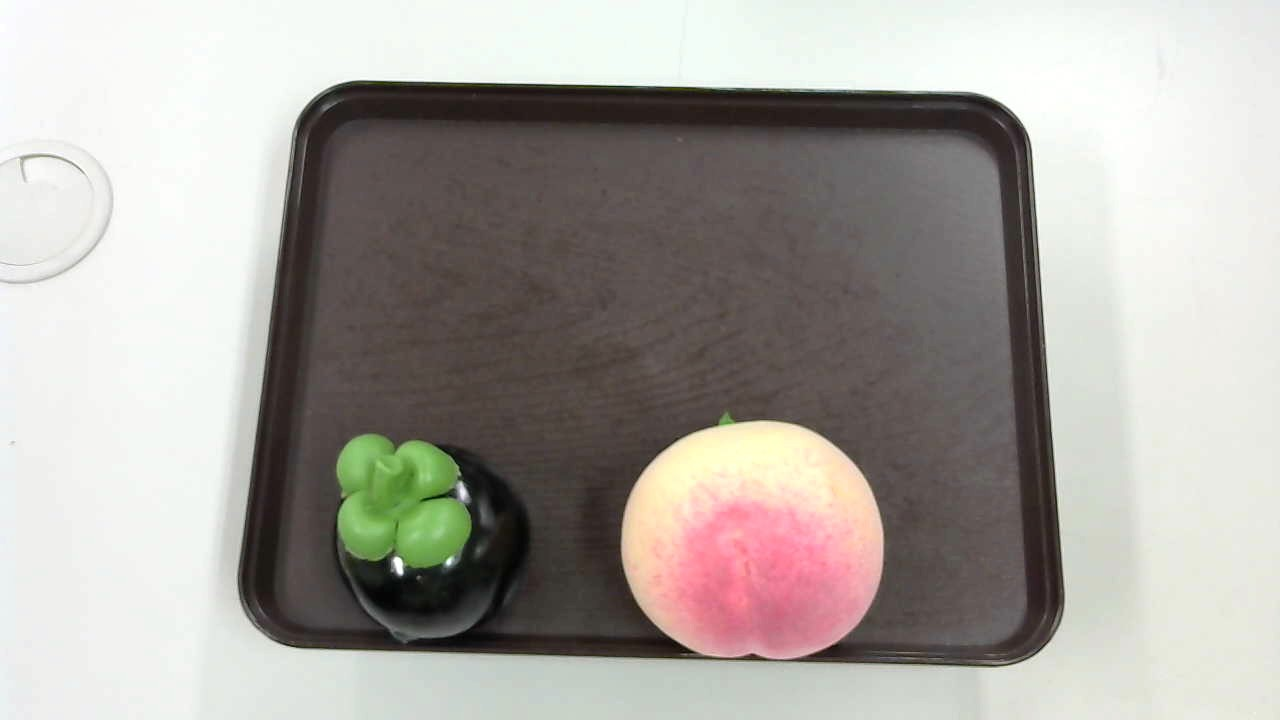mangosteen: (333, 430, 537, 639)
peach: (621, 405, 891, 670)
